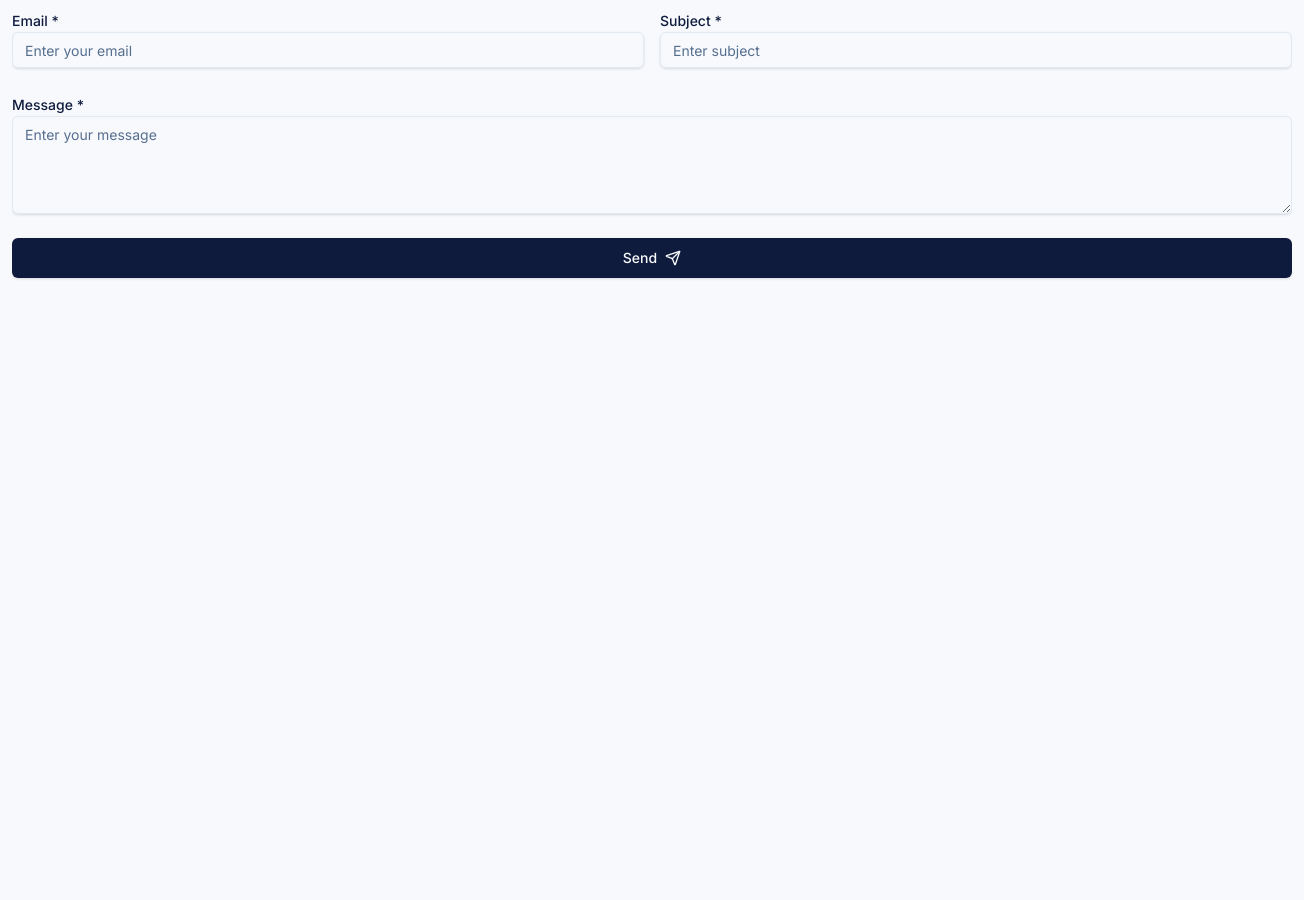
Test case: ContactForm.tsx - ContactForm Component › State Management Tests › TC8: Should show toast when state changes to success
Type "test@example.com" into the field with placeholder "Enter your email" at (328, 50), box [12,32,644,68]
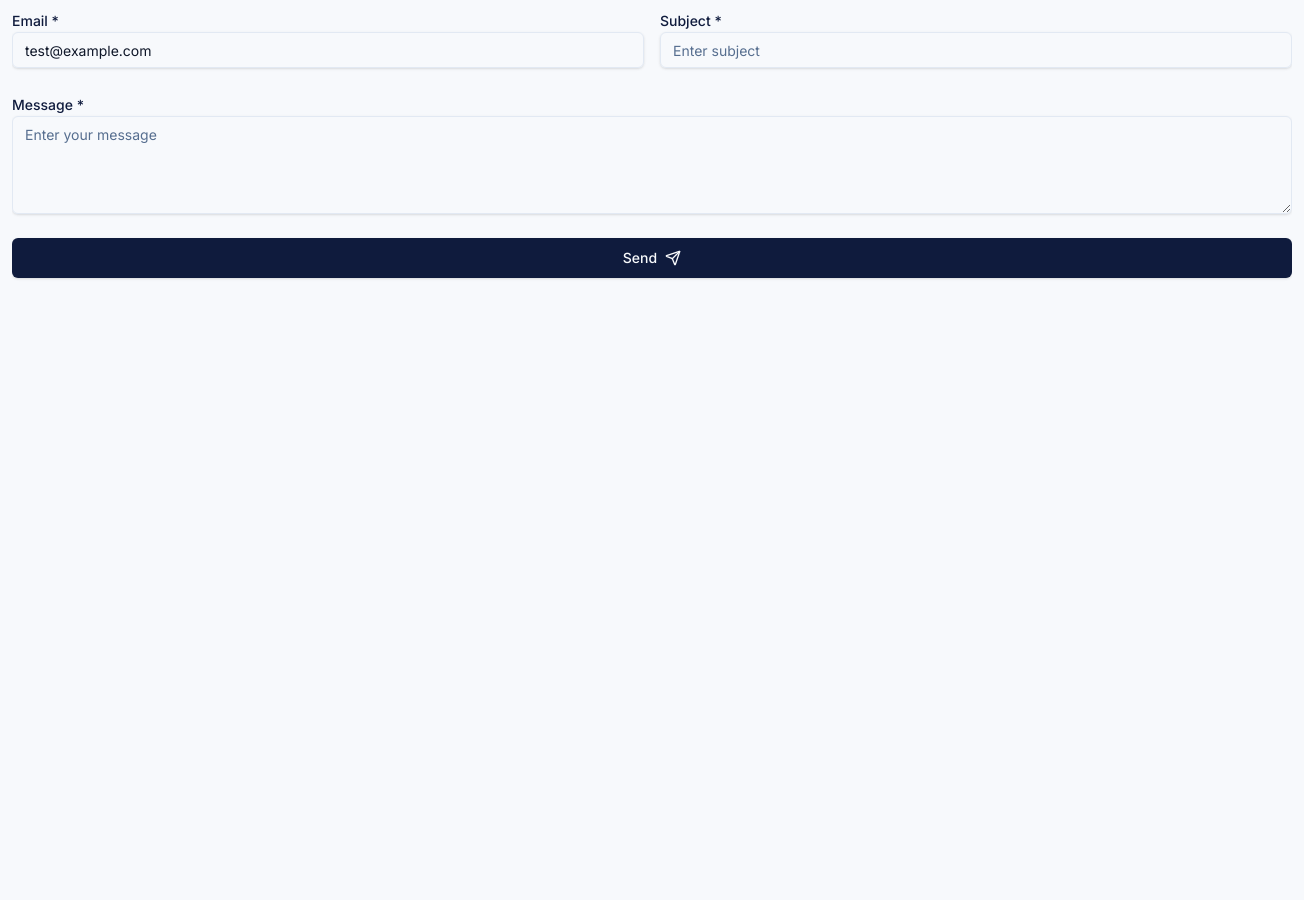
Type "Test message" into the text box with placeholder "Enter your message" at (652, 165), box [12,116,1292,214]
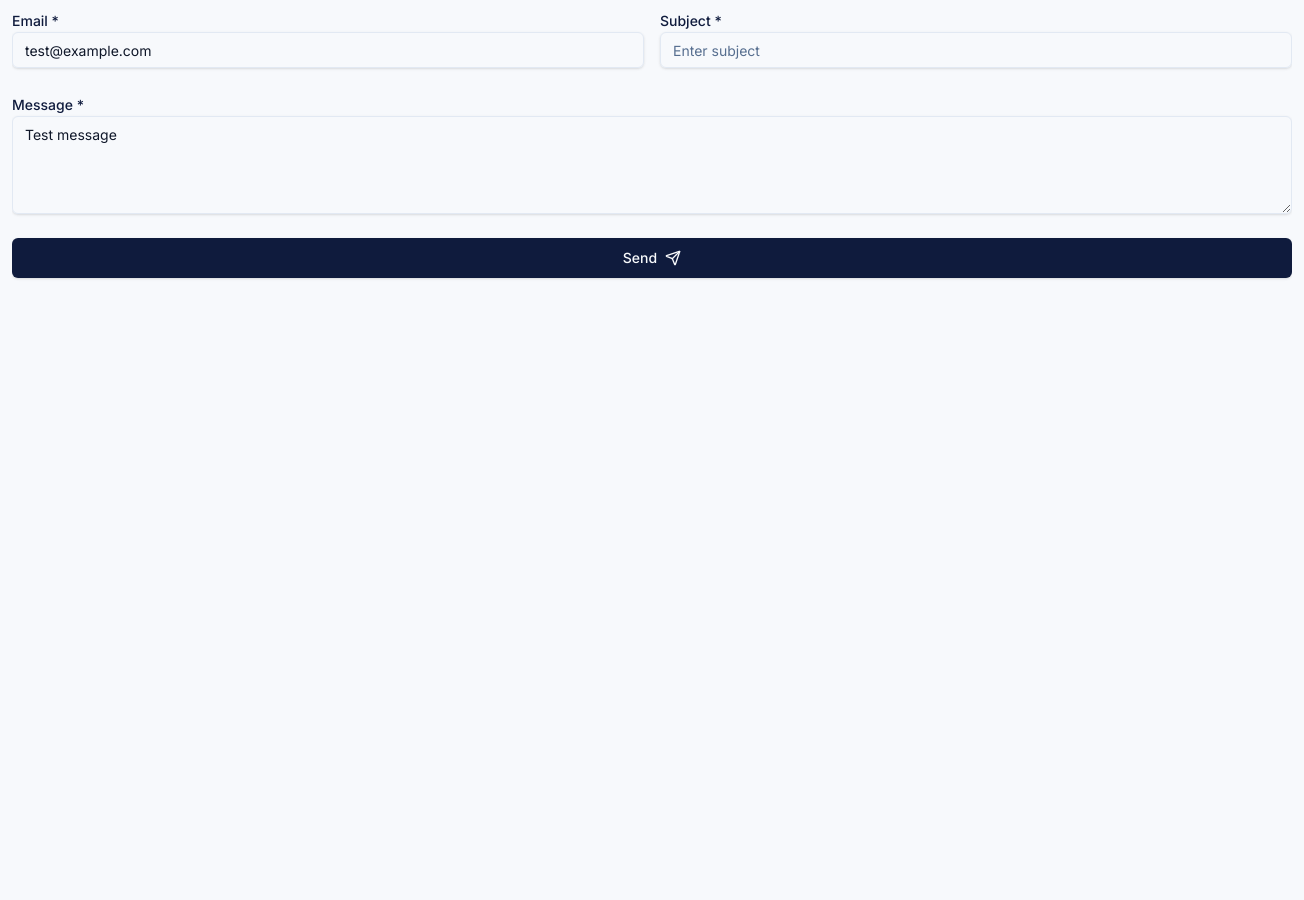
Submit the form, box [12,8,1292,278]
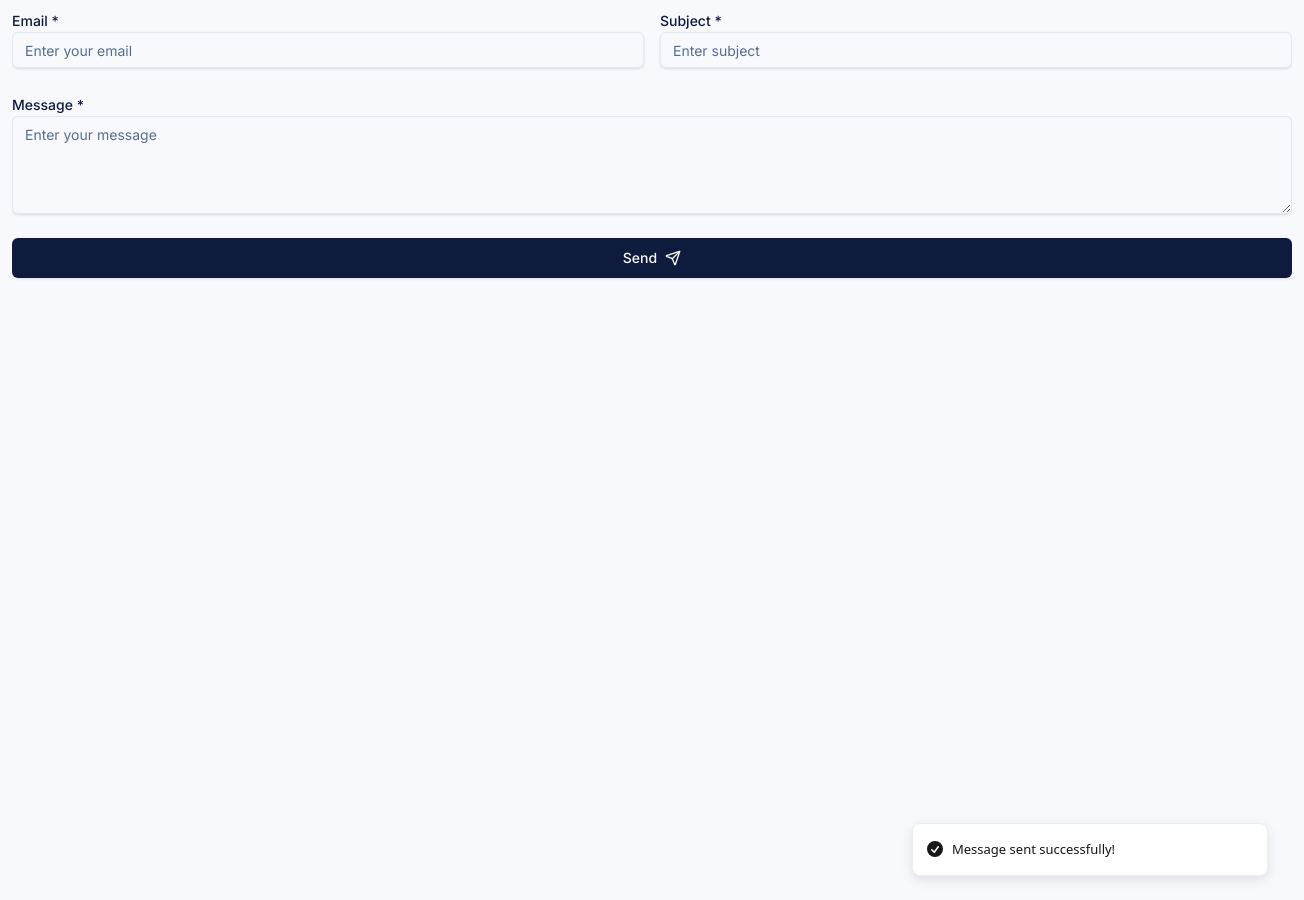
Expected: the text "Message sent successfully!" is shown, [952,840,1115,859]
